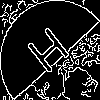H: (25, 25, 78, 83)
